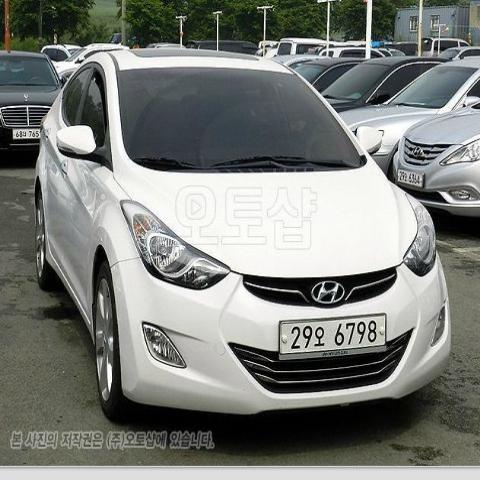LP: (273, 308, 391, 368)
